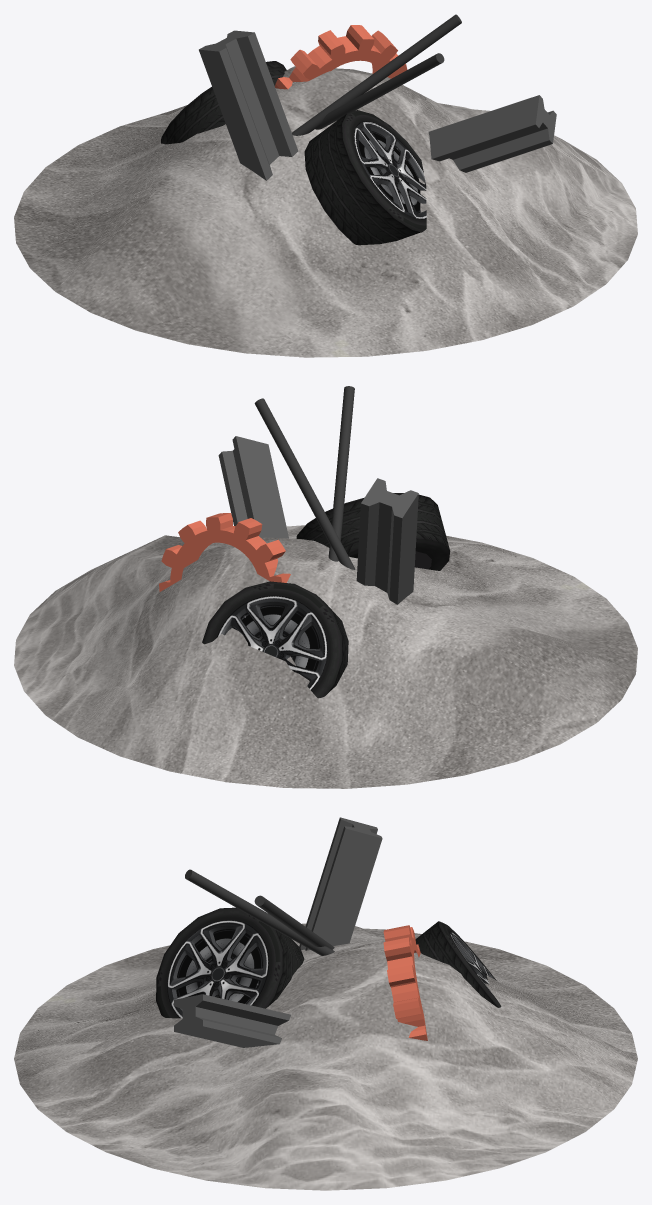
Rendered from moloz.fbx.
3 views of the same model, one above another, from view 1: azimuth 30°, elevation 25°; view 2: azimuth 150°, elevation 25°; view 3: azimuth 270°, elevation 25° (orthographic).
Visible parts, largest first — view 1: kum, teker.001, demir.001, demir, Gear, teker, demir.002, demir.003; view 2: kum, teker, demir.001, demir, Gear, teker.001, demir.002, demir.003; view 3: kum, teker.001, demir.001, demir, Gear, teker, demir.003, demir.002.
Boxes of the visible parts, <box> form: kum: <box>14,66,637,357</box>; teker.001: <box>304,110,426,245</box>; demir.001: <box>199,30,298,180</box>; demir: <box>428,95,556,172</box>; Gear: <box>275,25,407,89</box>; teker: <box>161,61,286,144</box>; demir.002: <box>292,14,461,135</box>; demir.003: <box>315,53,444,129</box>; kum: <box>14,525,637,788</box>; teker: <box>202,581,348,698</box>; demir.001: <box>356,478,418,604</box>; demir: <box>218,436,288,538</box>; Gear: <box>159,513,290,591</box>; teker.001: <box>296,493,450,570</box>; demir.002: <box>254,398,355,569</box>; demir.003: <box>328,386,354,561</box>; kum: <box>14,923,637,1190</box>; teker.001: <box>156,907,304,1018</box>; demir.001: <box>299,817,382,950</box>; demir: <box>174,994,290,1047</box>; Gear: <box>383,925,427,1040</box>; teker: <box>415,921,501,1007</box>; demir.003: <box>185,869,334,955</box>; demir.002: <box>254,895,334,949</box>.
Size of the model in its own units: 230 by 93.94 by 230.
5 materials, 2 textured.
